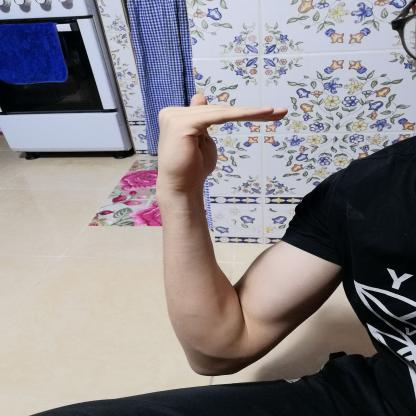KHAA: (142, 88, 298, 193)
